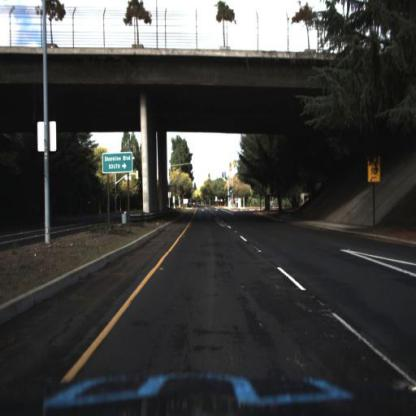trafficLight-Green: (231, 187, 233, 194), (209, 174, 211, 181)
